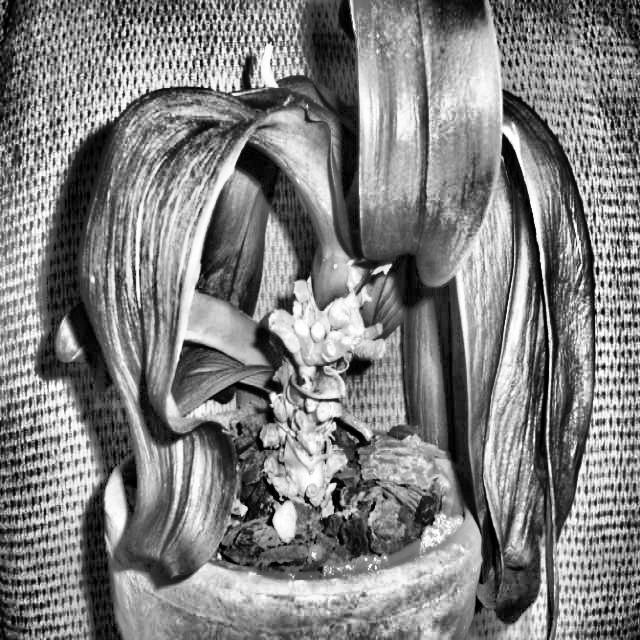plants: (47, 7, 604, 638), (32, 60, 347, 596), (463, 98, 603, 639)
